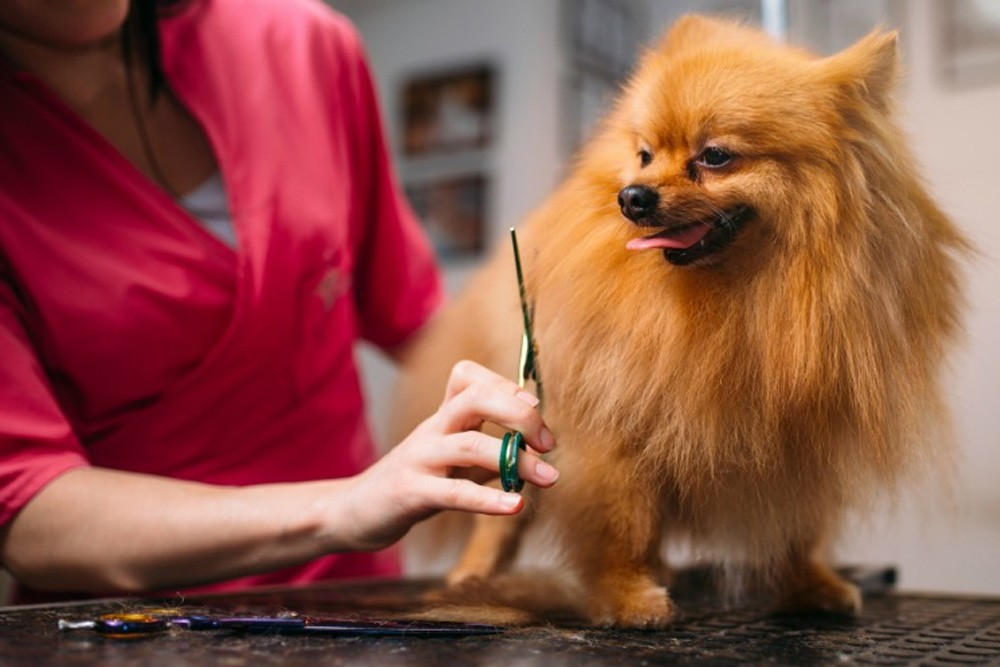pomeranian: (450, 5, 964, 650)
